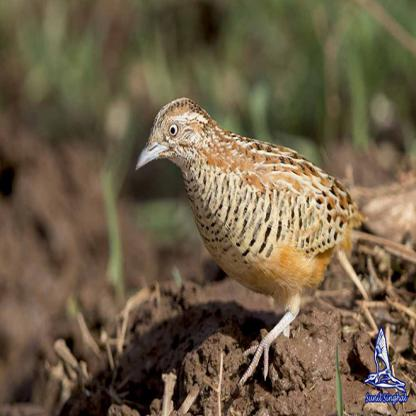Burung: (135, 97, 364, 387)
